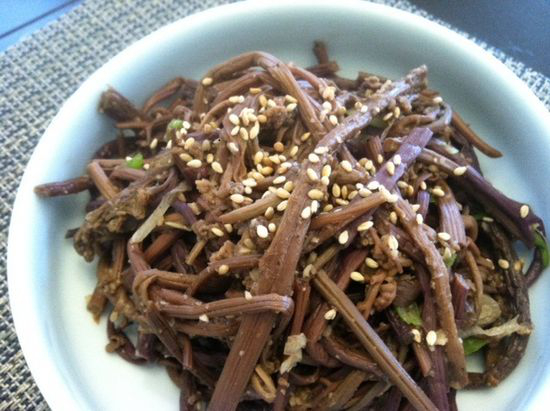gosalinamul: (66, 33, 526, 399)
